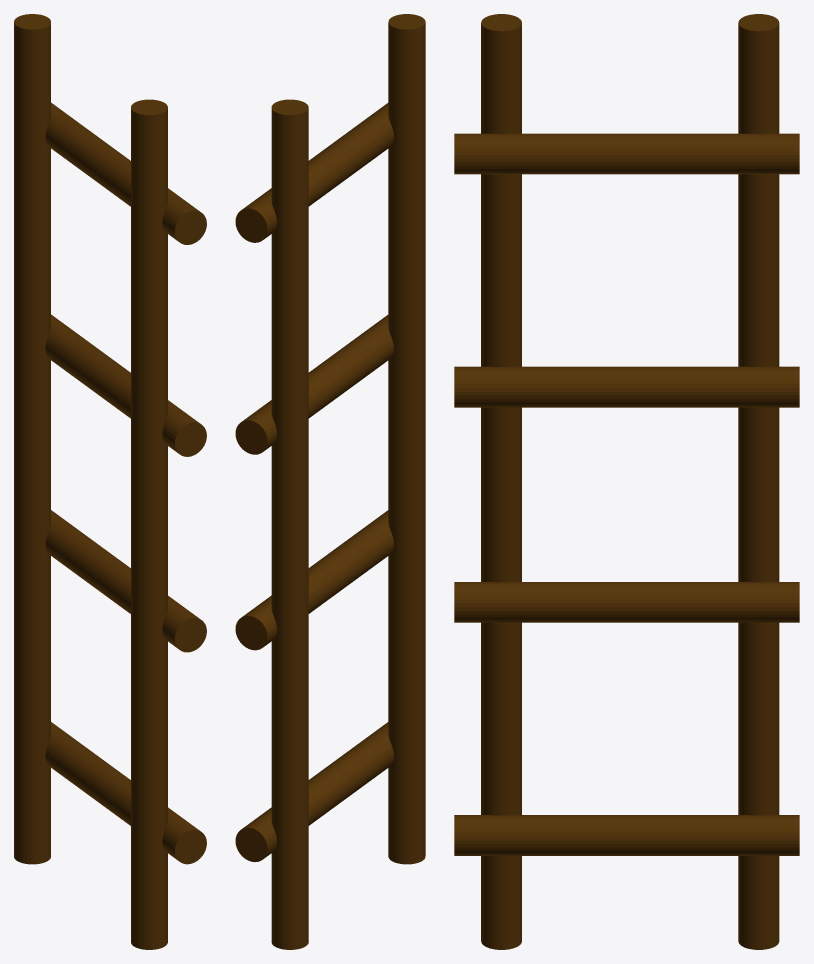
File: ladder.fbx
3 renders of one model, left to right at view 1: azimuth 30°, elevation 25°; view 2: azimuth 150°, elevation 25°; view 3: azimuth 270°, elevation 25°, orthographic. The views are drawn at different scales.
Visible parts, largest first — view 1: Cylinder, Cylinder.001, Cylinder.002; view 2: Cylinder, Cylinder.002, Cylinder.001; view 3: Cylinder, Cylinder.002, Cylinder.001.
Boxes of the visible parts, x1,y1,x2,y2 form: Cylinder: [14, 14, 167, 949]; Cylinder.001: [45, 510, 206, 864]; Cylinder.002: [45, 102, 206, 456]; Cylinder: [271, 14, 425, 949]; Cylinder.002: [235, 103, 393, 454]; Cylinder.001: [235, 510, 393, 862]; Cylinder: [481, 14, 779, 949]; Cylinder.002: [454, 133, 799, 407]; Cylinder.001: [454, 582, 799, 855].
Bounding box in the file's own units: 50.7 × 776 × 264.
